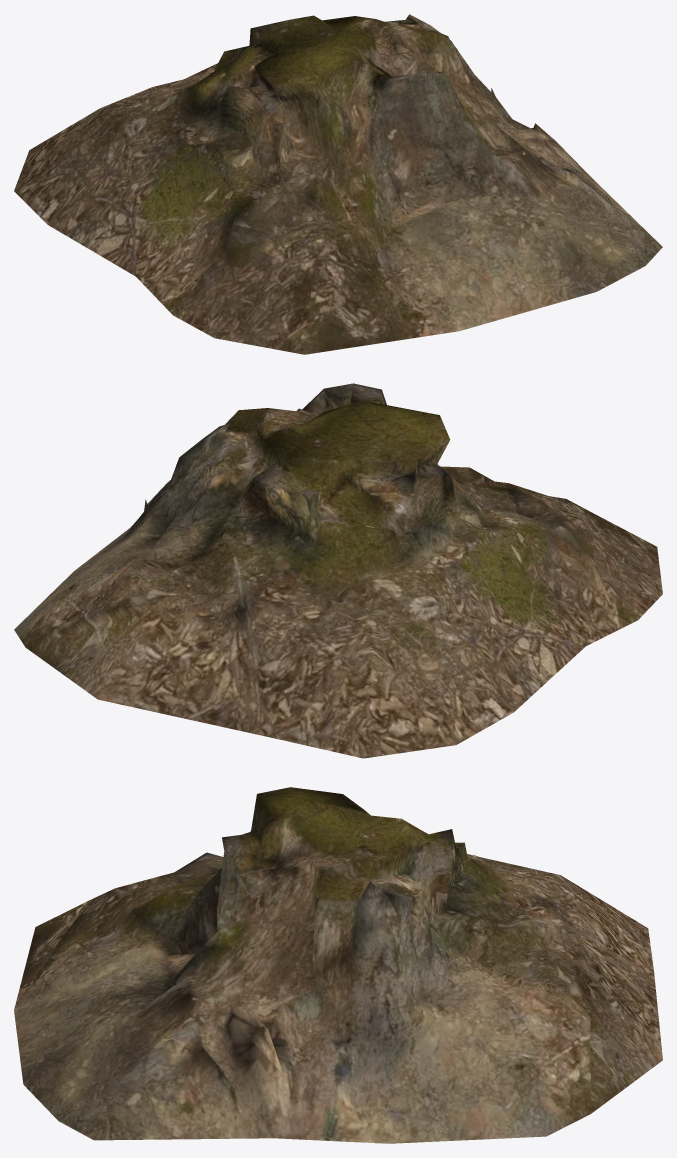
File: stump.glb
3 renders of one model, top to bottom at view 1: azimuth 30°, elevation 25°; view 2: azimuth 150°, elevation 25°; view 3: azimuth 270°, elevation 25°, orthographic. The views are drawn at different scales.
Parts seen in each view (by area): view 1: tree_stump_01; view 2: tree_stump_01; view 3: tree_stump_01.
Boxes of the visible parts, x1,y1,x2,y2 form: tree_stump_01: [14, 14, 662, 354]; tree_stump_01: [14, 383, 662, 758]; tree_stump_01: [14, 787, 662, 1143].
Size of the model in its own units: 1.42 by 0.5624 by 1.59.
Materials: 1 (1 with a texture image).
